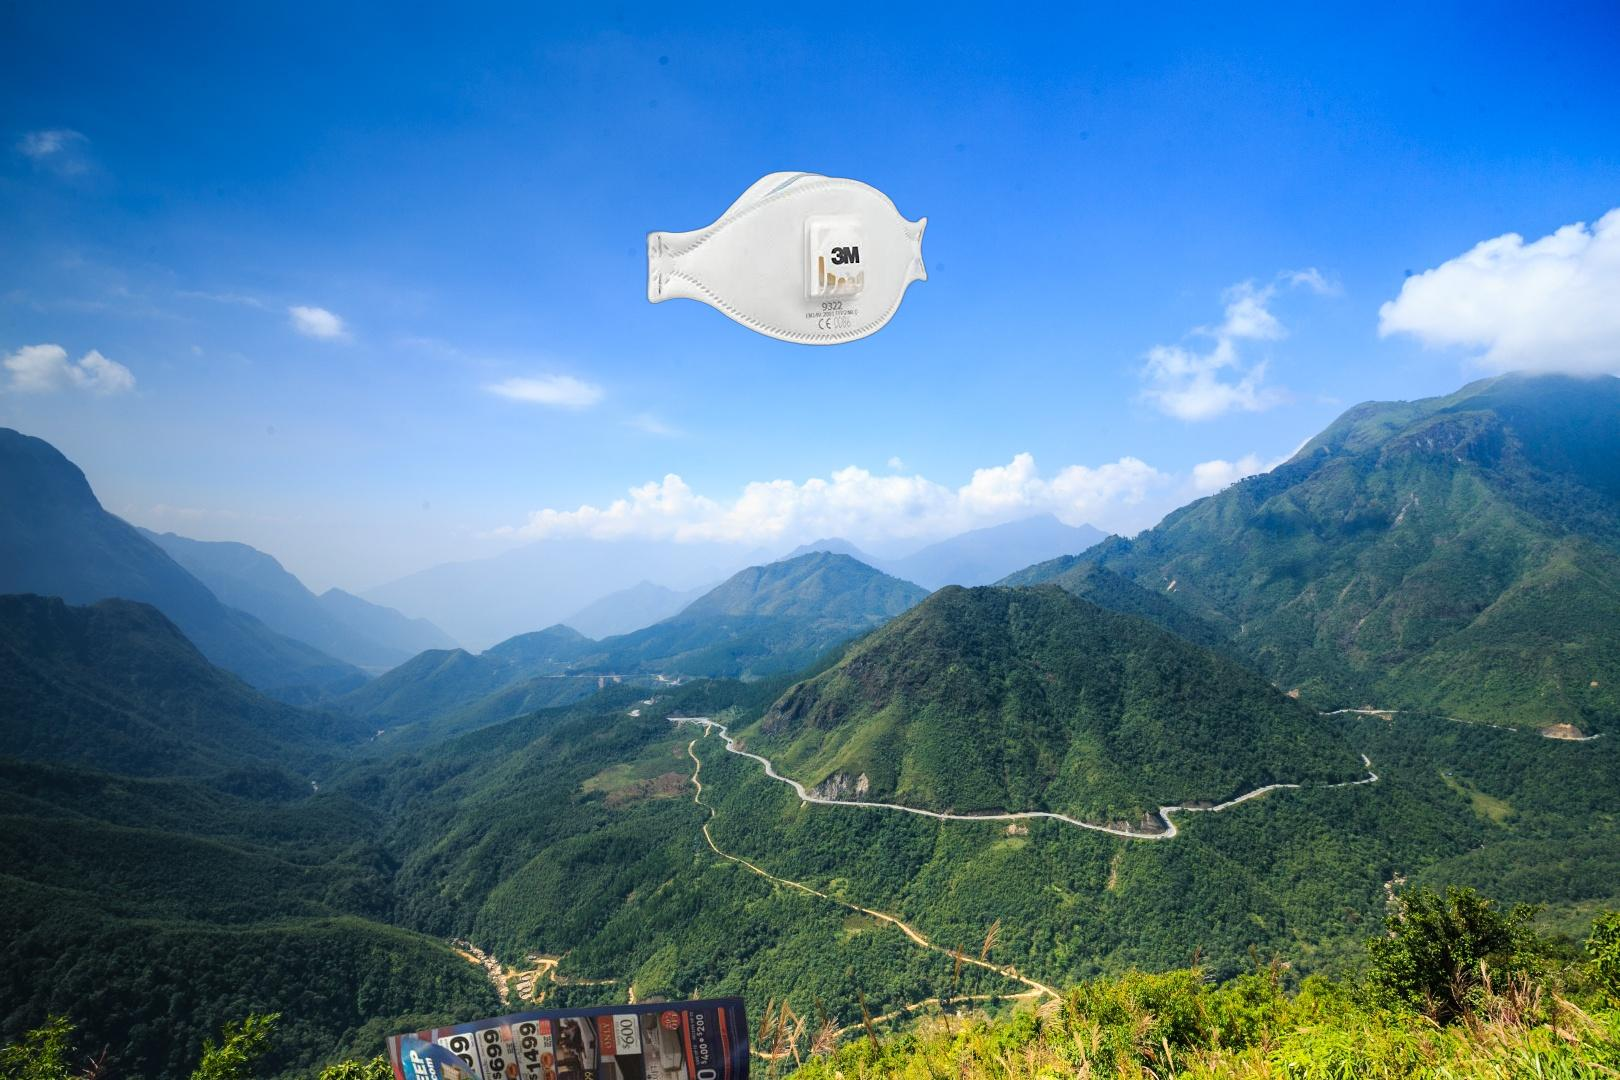paper: (381, 993, 768, 1080)
trash: (646, 169, 929, 347)
